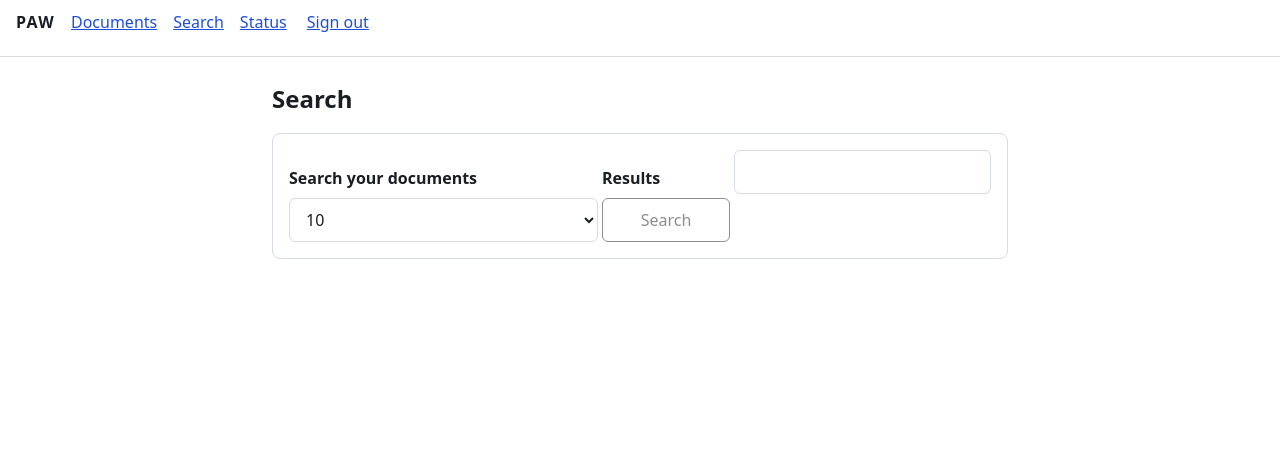
Test: explains empty results and degraded mode
Type "nothing" into the search field labelled "Search your documents" at (862, 172), box [734,150,991,194]
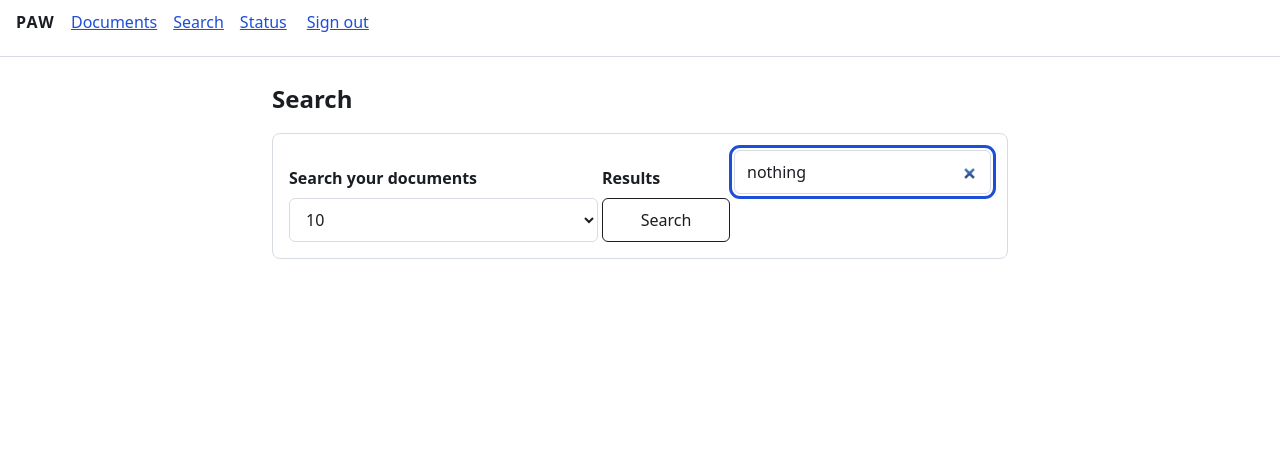
Click the button "Search" at (666, 220), box [602,198,730,242]
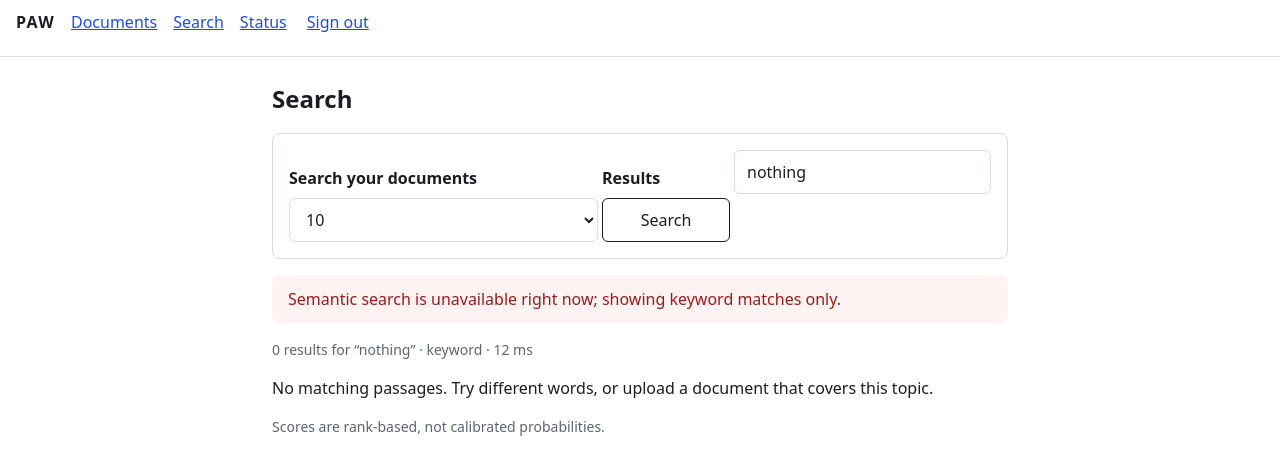
Expected: the text "No matching passages" is shown, [272,377,933,399]
Expected: the message shows "keyword matches only", [288,288,841,310]
